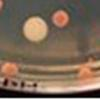orange: (19, 13, 50, 44), (51, 8, 71, 29), (0, 60, 19, 78), (78, 64, 93, 80), (0, 0, 7, 18)
